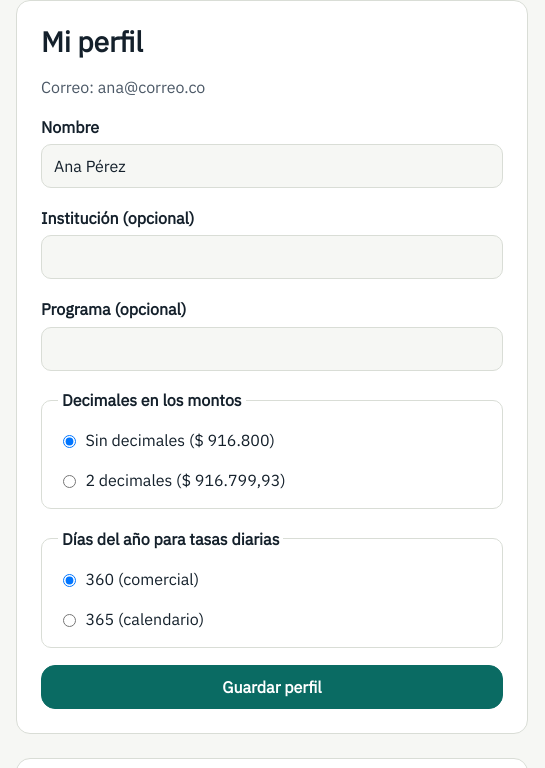
HU-04: perfil › muestra el error si no se pudo guardar
This screenshot has width=545, height=768.
Expected: the field labelled "Nombre" is shown, [41,144,503,188]
Click the button "Guardar perfil" at (272, 687), box [41,665,503,709]
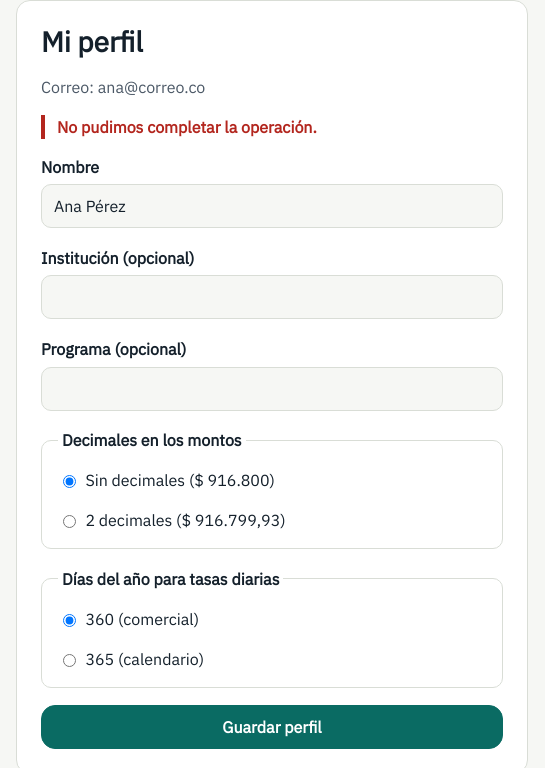
Expected: the message reads "No pudimos completar la operación.", [57,117,317,137]
